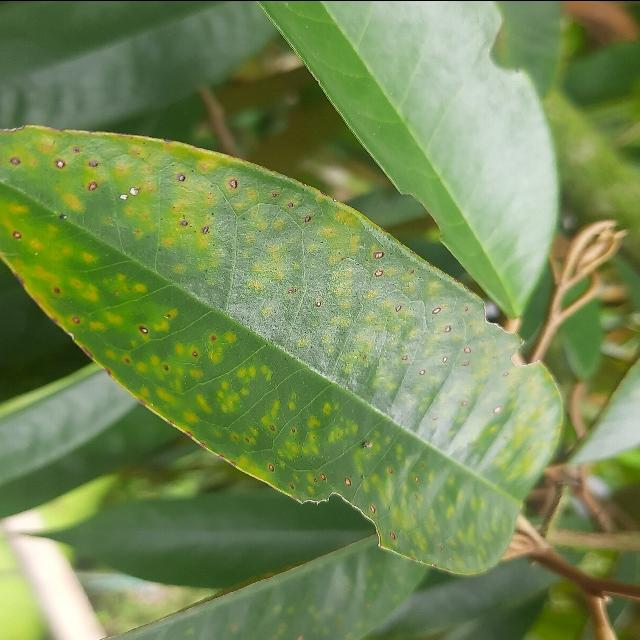Leaf Spot: (0, 101, 579, 581)
